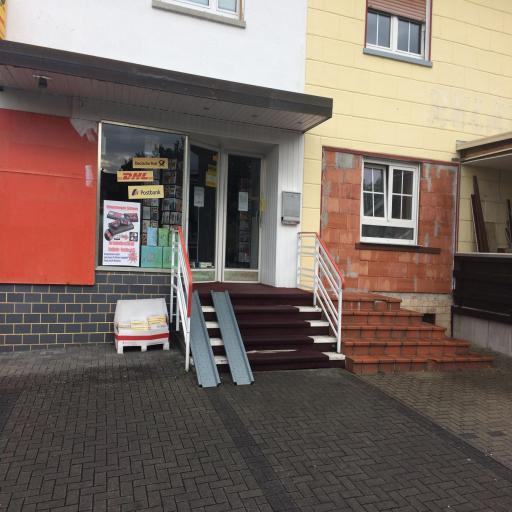ramp: (184, 290, 255, 388)
stairs: (328, 297, 494, 377), (228, 290, 344, 371)
